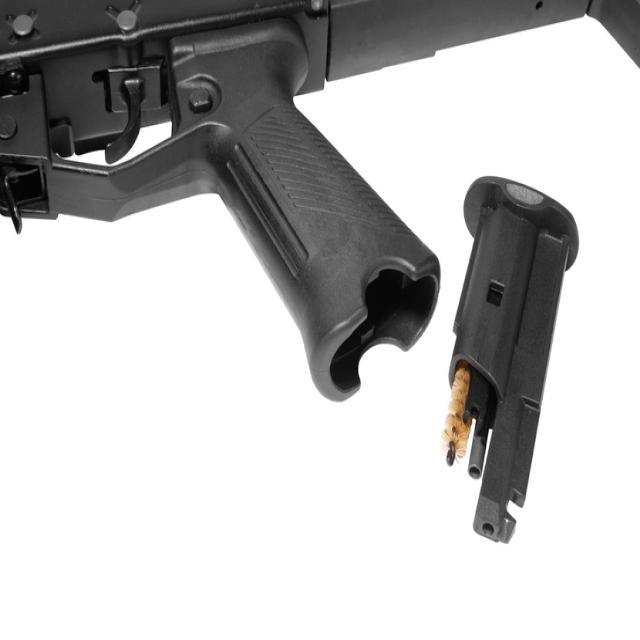firearm: (0, 0, 640, 403)
